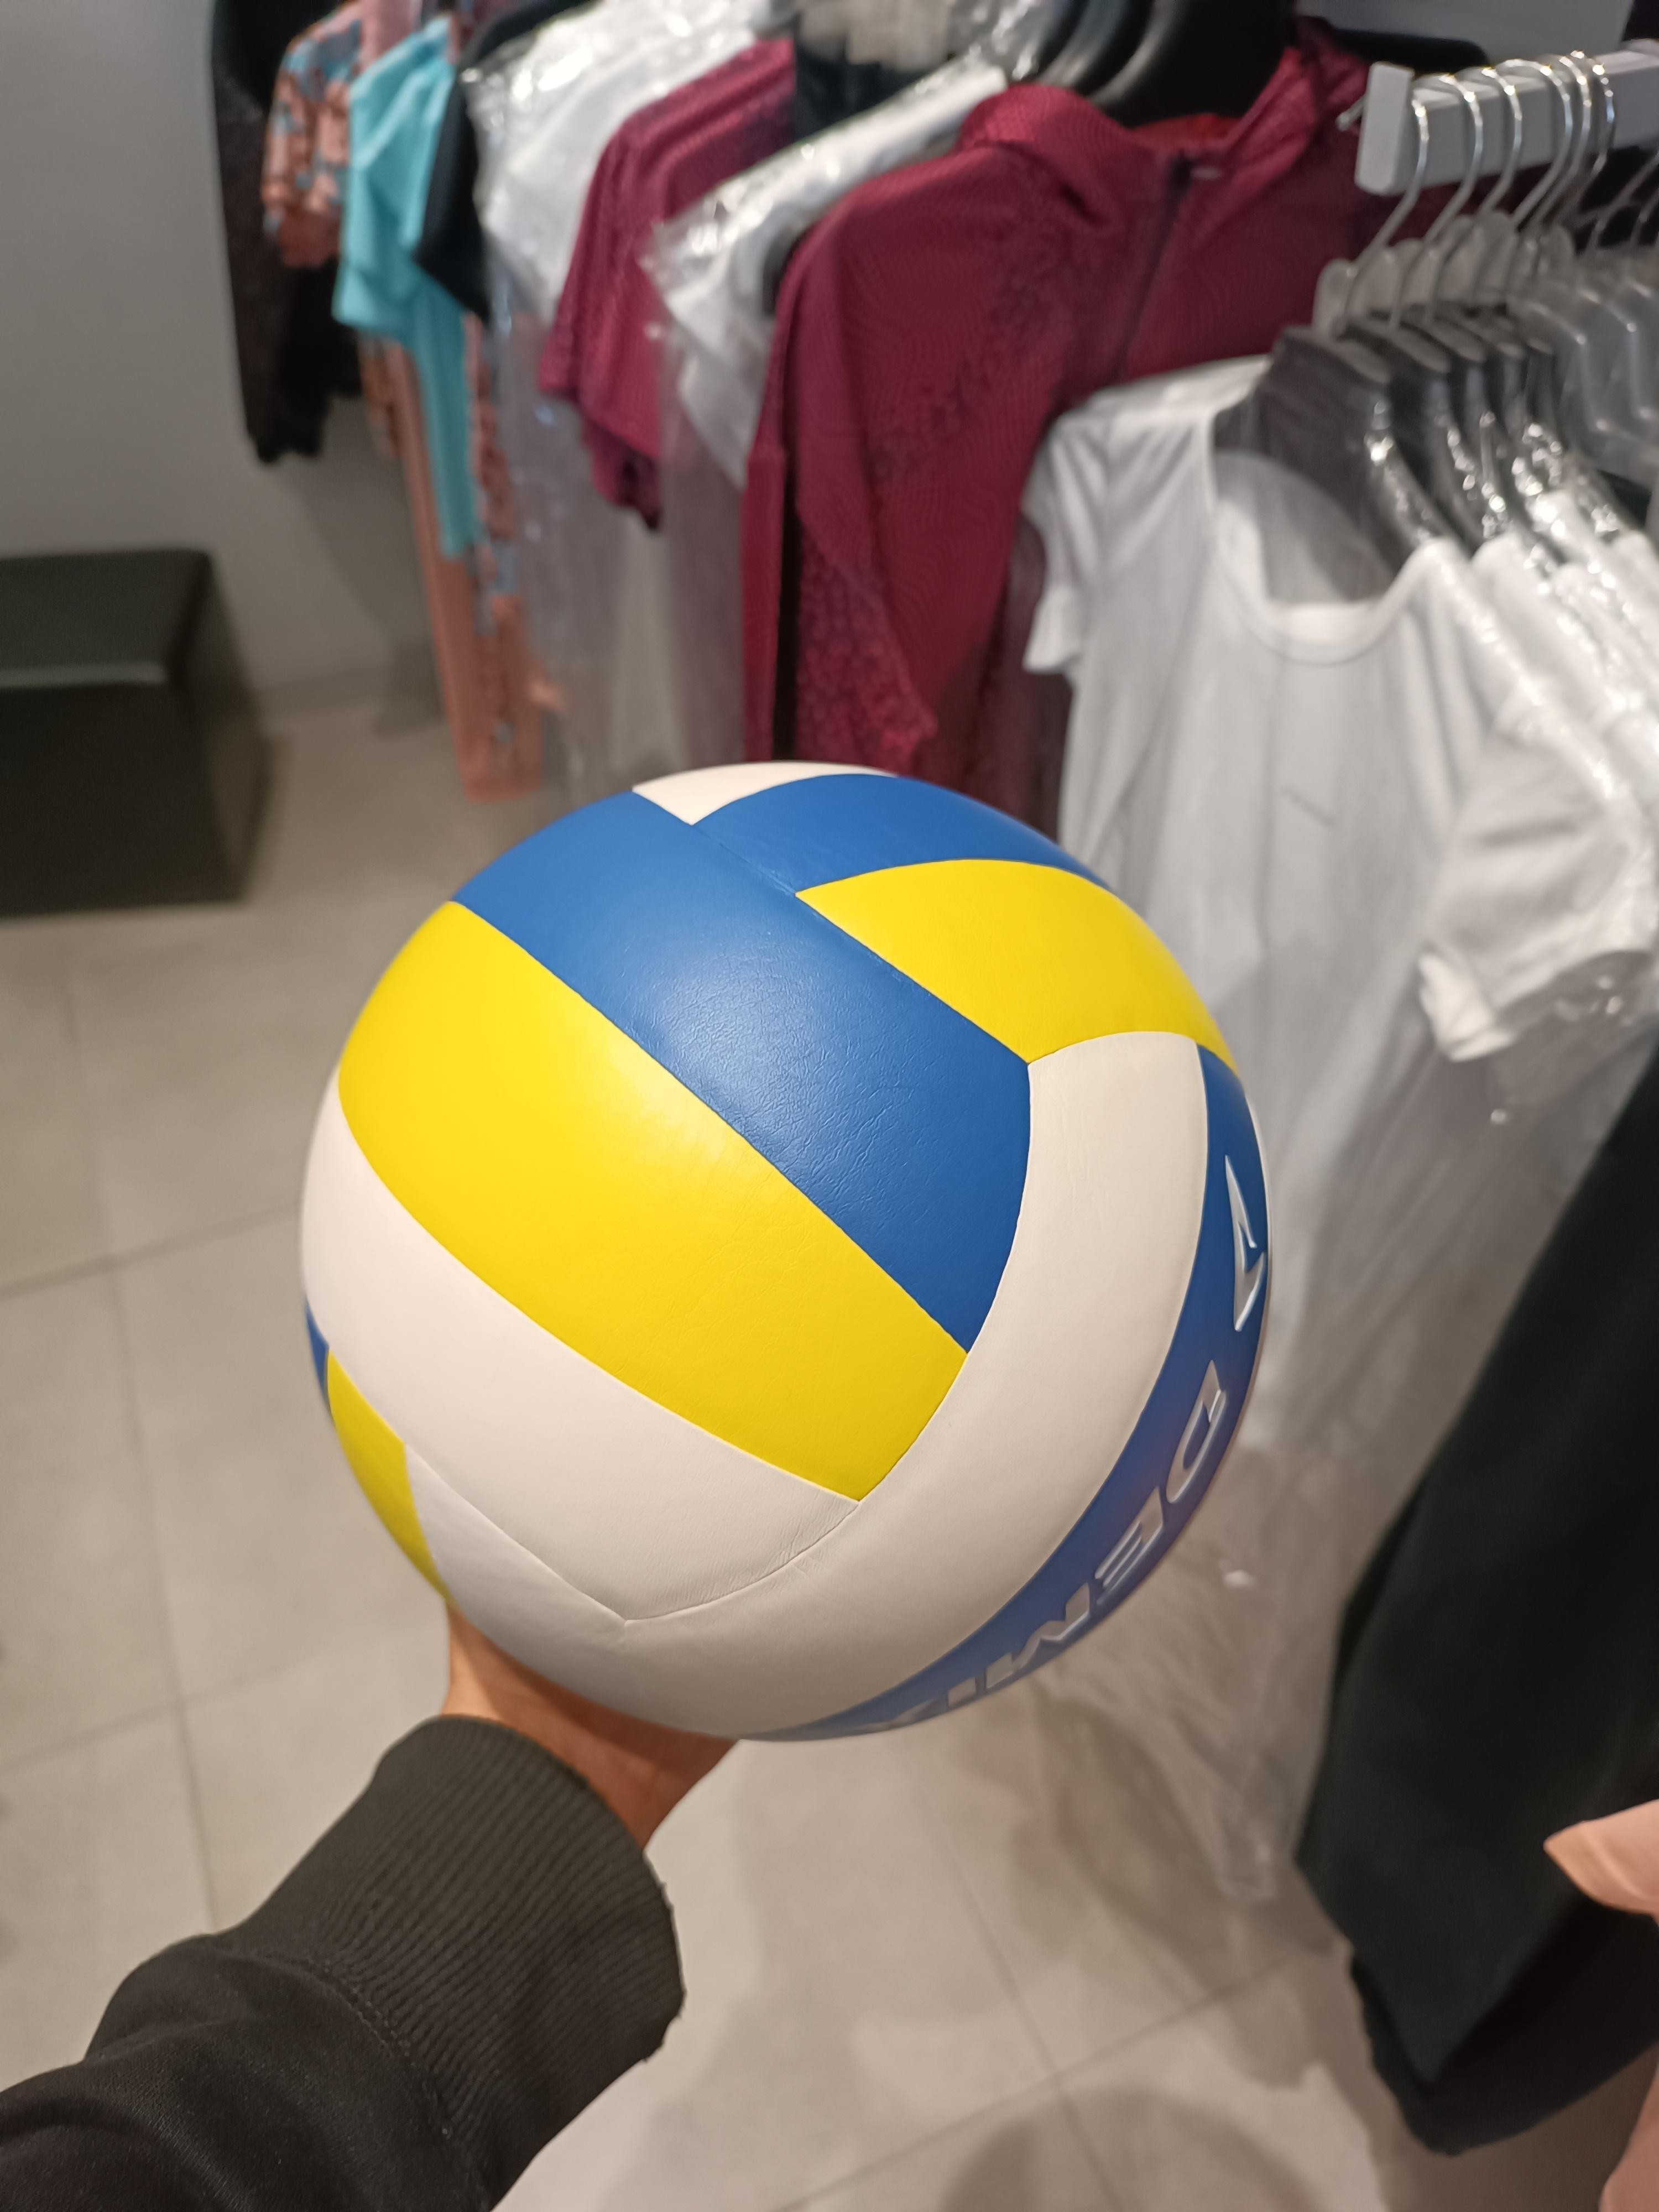Sports-Ball: (303, 765, 1270, 1737)
